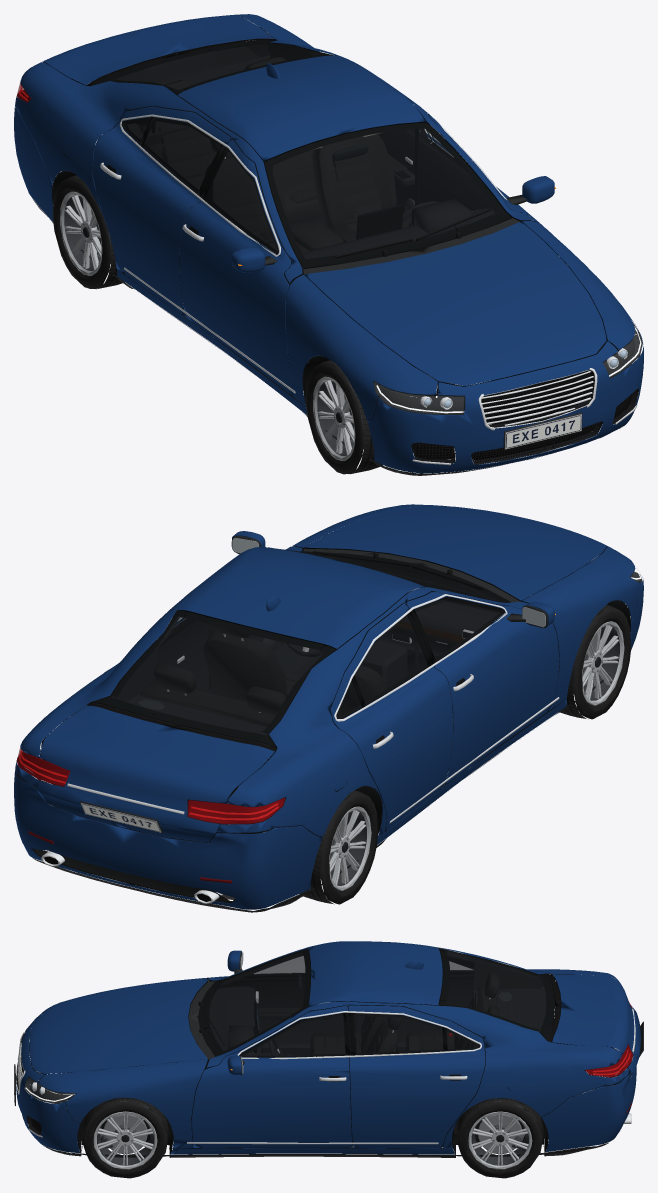
Rendered from executive-sedan.glb.
The picture shows the model from 3 angles, top to bottom: view 1: azimuth 30°, elevation 25°; view 2: azimuth 150°, elevation 25°; view 3: azimuth 270°, elevation 25°; orthographic projection. The views are drawn at different scales.
Visible parts, largest first — view 1: Body, Wheel_FR, Wheel_RR; view 2: Body, Wheel_RR, Wheel_FR; view 3: Body, Wheel_FL, Wheel_RL.
Boxes of the visible parts, left/top/right/bottom form: Body: left=14, top=14, right=643, bottom=475; Wheel_FR: left=306, top=360, right=383, bottom=474; Wheel_RR: left=53, top=175, right=123, bottom=289; Body: left=14, top=504, right=643, bottom=912; Wheel_RR: left=300, top=790, right=378, bottom=904; Wheel_FR: left=553, top=604, right=631, bottom=719; Body: left=14, top=941, right=643, bottom=1157; Wheel_FL: left=82, top=1098, right=168, bottom=1178; Wheel_RL: left=457, top=1098, right=543, bottom=1178.
Size of the model in its own units: 2.16 by 1.5 by 5.01.
59 materials, 12 textured.
